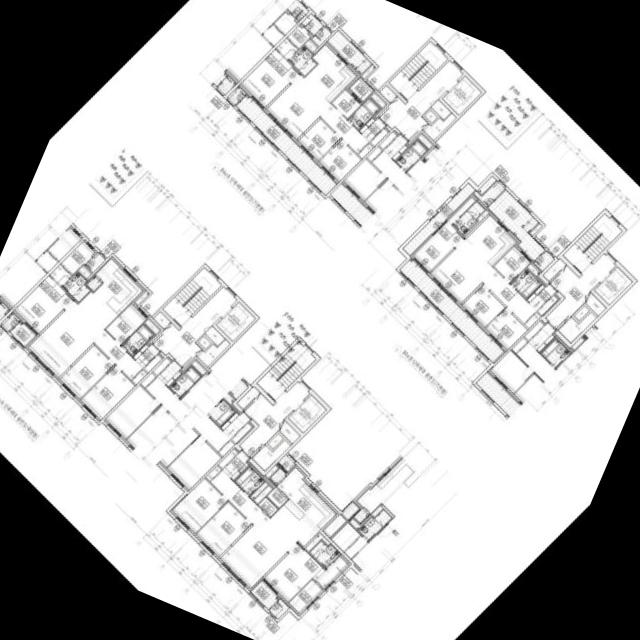background: (0, 0, 640, 640)
space_balconi: (398, 258, 502, 362), (235, 94, 336, 194), (402, 182, 474, 254), (487, 189, 544, 260), (326, 29, 371, 74), (250, 580, 278, 609), (9, 321, 34, 346), (348, 77, 372, 101), (301, 13, 322, 34)
space_bedroom: (412, 196, 474, 271), (240, 48, 298, 107), (263, 543, 321, 601), (14, 275, 72, 333), (171, 478, 226, 532), (195, 501, 249, 556), (59, 344, 113, 398), (80, 365, 134, 419), (484, 307, 526, 349), (297, 118, 339, 160), (318, 139, 360, 181), (105, 303, 146, 344), (462, 285, 503, 326), (493, 246, 529, 282)
space_dressroom: (288, 556, 347, 613), (49, 240, 94, 285), (275, 25, 309, 59)
space_elevator: (441, 75, 480, 114), (215, 301, 254, 340), (593, 266, 631, 304), (287, 394, 325, 432)
space_elevator_hall: (151, 286, 236, 367), (378, 60, 462, 141), (544, 253, 615, 329), (238, 381, 308, 457)
space_front: (526, 283, 557, 315), (358, 116, 387, 146), (132, 343, 161, 372), (222, 450, 248, 480)
space_kitchen: (77, 258, 142, 329), (276, 467, 335, 528), (303, 44, 354, 102), (464, 214, 515, 266)
space_living_room: (209, 470, 320, 588), (27, 301, 146, 384), (430, 239, 540, 328), (265, 74, 372, 158)
space_other: (251, 439, 289, 471), (557, 312, 595, 343), (423, 113, 455, 140), (197, 339, 229, 366), (331, 89, 360, 118), (463, 210, 487, 236), (542, 258, 564, 280), (236, 386, 258, 408), (304, 532, 329, 551), (585, 292, 605, 315), (279, 420, 299, 443), (266, 487, 287, 507), (533, 250, 553, 271), (204, 325, 224, 345), (268, 598, 288, 618), (217, 448, 237, 468), (430, 99, 450, 119), (310, 26, 330, 45), (84, 252, 104, 271), (257, 497, 276, 516), (477, 176, 495, 194), (253, 485, 271, 503), (249, 481, 267, 499), (152, 311, 169, 328), (379, 85, 396, 102), (268, 467, 284, 485), (573, 305, 588, 320), (205, 465, 220, 480), (267, 433, 282, 448), (85, 275, 100, 290), (370, 93, 384, 107), (360, 64, 374, 78), (144, 319, 158, 333), (526, 263, 539, 276), (423, 109, 436, 122), (264, 465, 277, 477), (197, 336, 210, 348), (303, 40, 315, 52), (77, 266, 89, 278), (529, 223, 541, 234)
space_outdoor_room: (473, 180, 504, 206), (226, 85, 245, 104), (0, 312, 19, 330), (278, 454, 294, 471)
space_staircase: (562, 213, 620, 272), (256, 341, 314, 400), (162, 267, 220, 325), (388, 41, 446, 99)
space_toilet: (452, 201, 484, 234), (347, 97, 379, 129), (121, 324, 152, 355), (511, 268, 540, 298), (234, 465, 263, 495), (309, 540, 339, 568), (288, 45, 315, 75), (62, 272, 89, 301)
